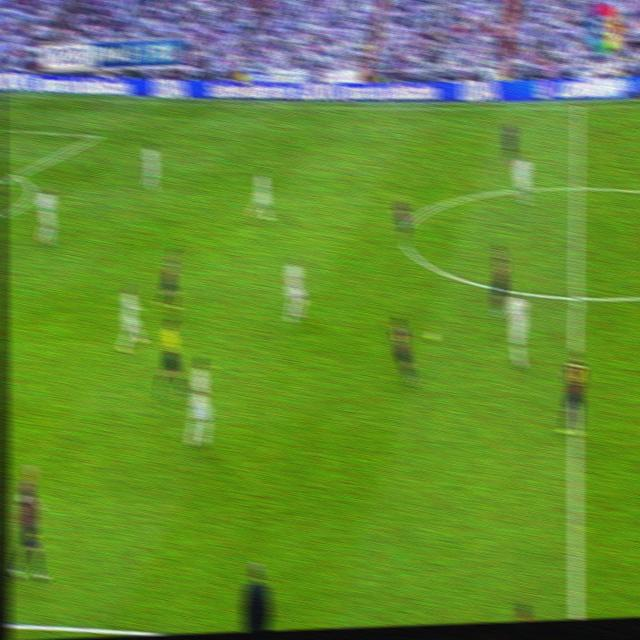bigarea_bottom_outter: (10, 167, 23, 183)
halfcircle_bottom: (567, 281, 586, 312)
halfcircle_top: (570, 176, 585, 199)
midline_top_intersection: (573, 99, 585, 115)
top_arc_area_intersection: (10, 166, 23, 184)
